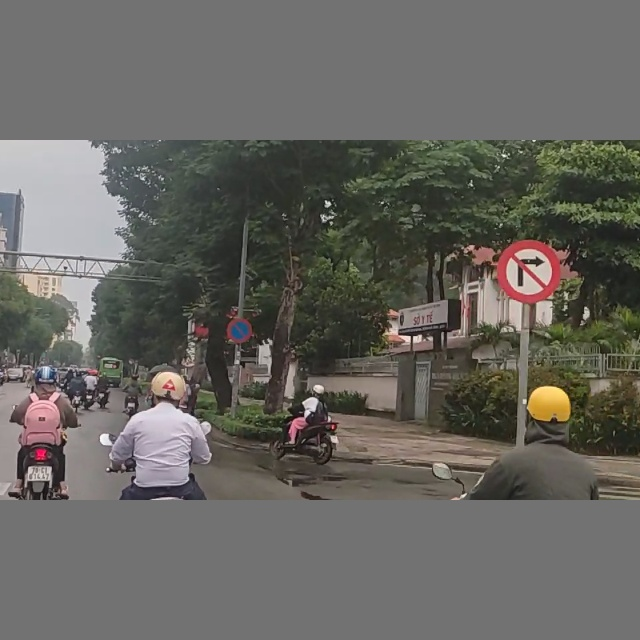P.123b: (501, 241, 559, 303)
P.131a: (225, 316, 251, 342)
